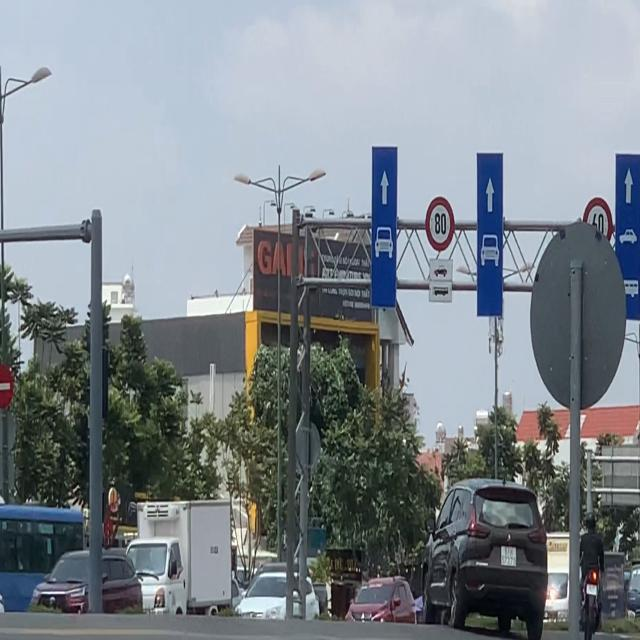Cam nguoc chieu: (0, 362, 14, 409)
Toc do toi da: (424, 196, 456, 251)
